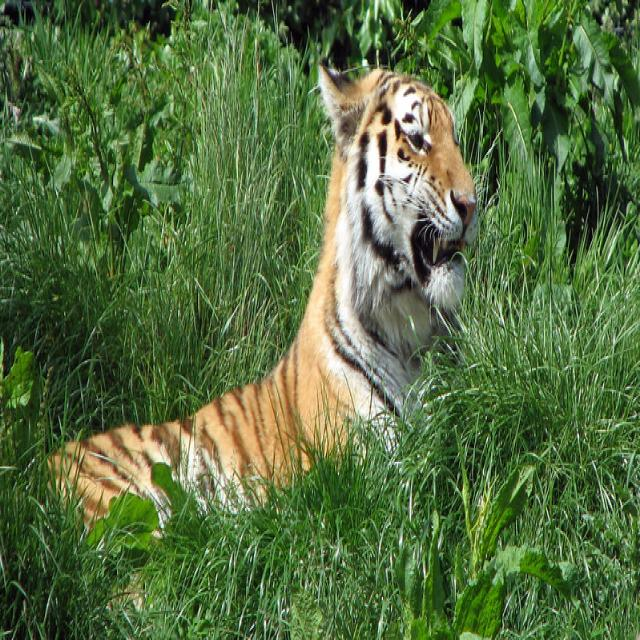Tiger: (46, 59, 478, 552)
